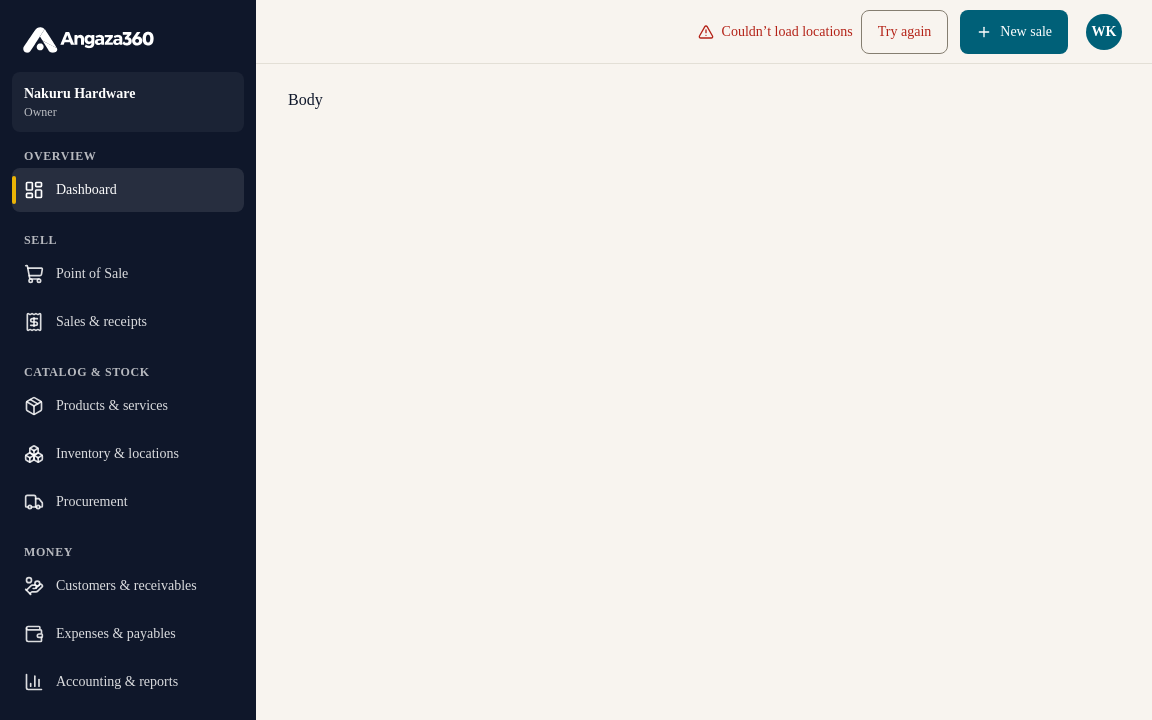
Test: the location selector › shows an error with a retry that recovers
The image size is (1152, 720).
Expected: the message shows "Couldn’t load locations", [722,24,853,38]
Click the button "Try again" at (905, 32), box [861,10,948,54]
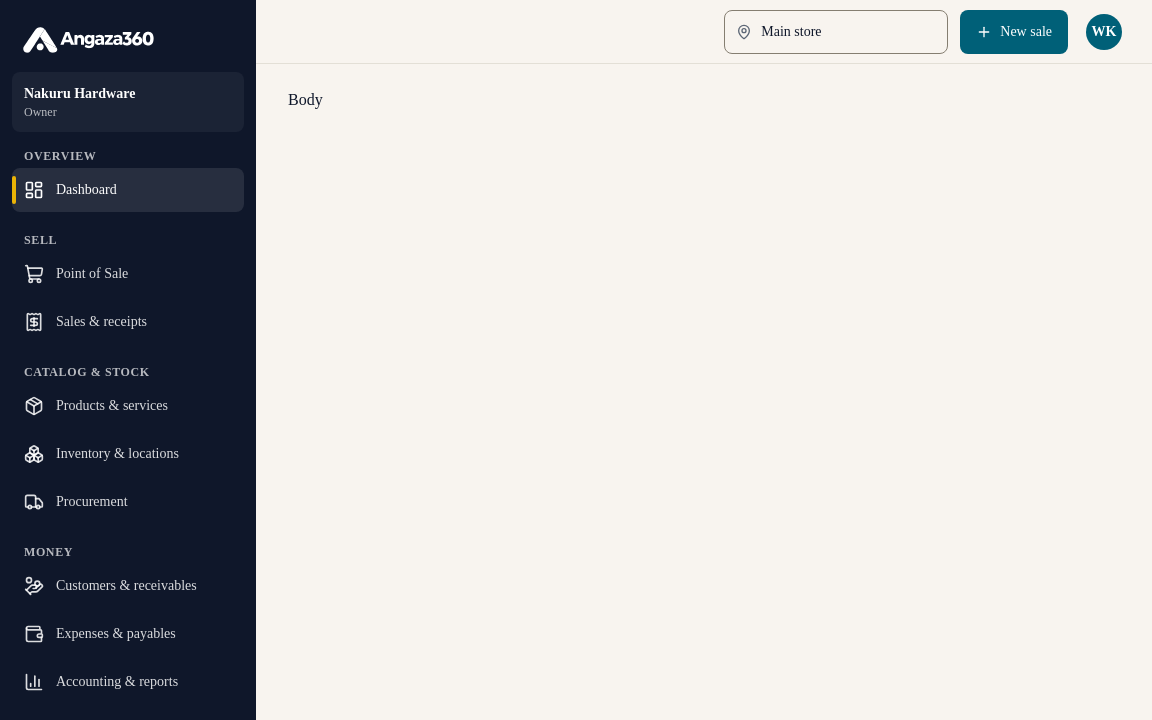
Expected: the dropdown named "Location" shows "Main store", [724,10,948,54]
